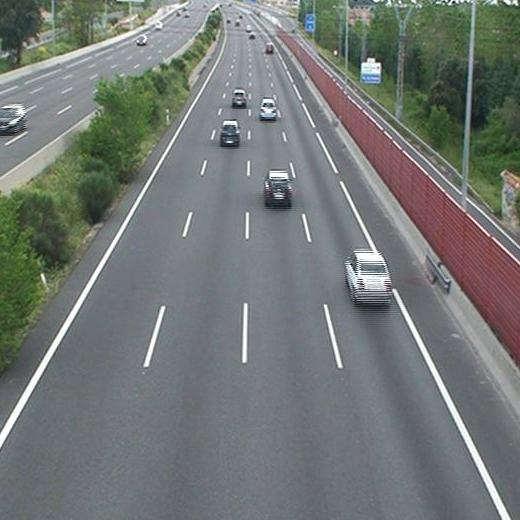car: (345, 252, 391, 304), (264, 171, 292, 203), (220, 121, 240, 145), (260, 98, 276, 119), (231, 89, 247, 107), (265, 43, 274, 53)
